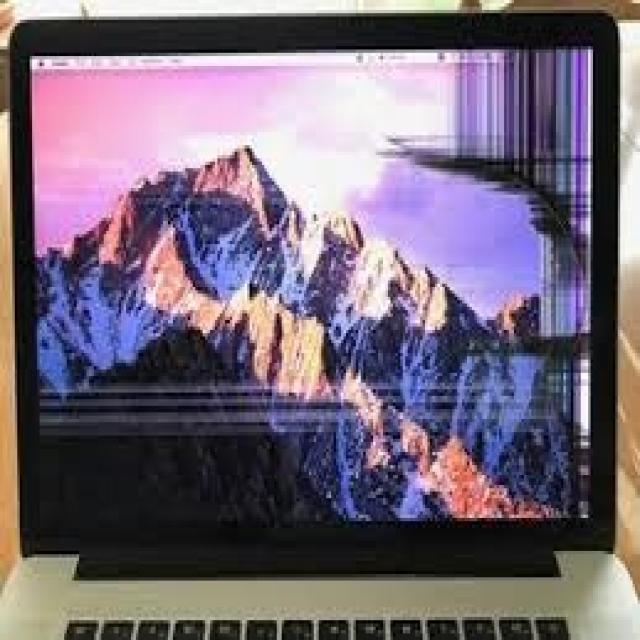Screen cracks: (383, 59, 596, 343)
